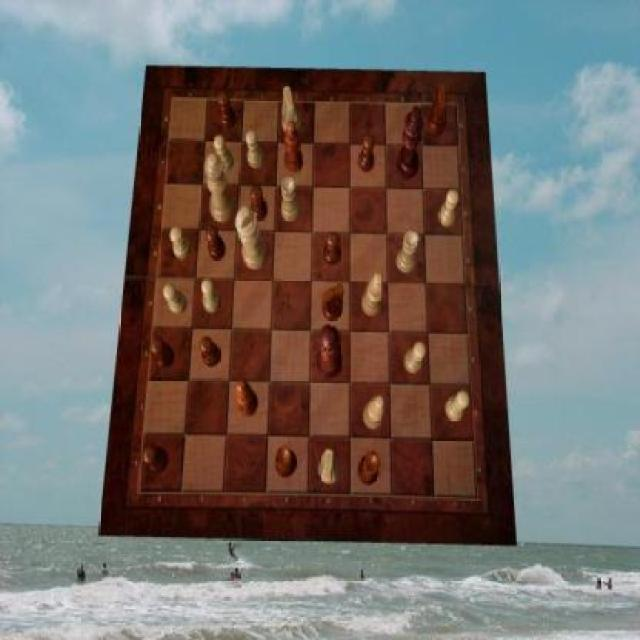bishop: (284, 119, 304, 172), (236, 379, 258, 416)
black-bishop: (397, 105, 424, 179)
black-king: (428, 85, 448, 137), (321, 283, 344, 321)
black-knight: (150, 337, 174, 369), (218, 91, 238, 129), (143, 446, 169, 474), (198, 337, 221, 368), (358, 134, 376, 172), (206, 225, 226, 259), (323, 231, 341, 265), (251, 186, 268, 221)
black-pawn: (317, 325, 341, 379)
black-queen: (358, 451, 381, 485), (275, 446, 298, 479)
black-rook: (361, 271, 384, 316), (363, 395, 386, 430)
white-bishop: (237, 206, 268, 270)
white-king: (283, 86, 303, 136), (318, 450, 341, 486)
white-knight: (446, 391, 471, 423), (438, 189, 459, 227), (163, 285, 187, 317), (214, 135, 234, 173), (170, 226, 192, 260), (405, 341, 427, 374), (247, 131, 266, 168), (202, 278, 220, 312)
white-pawn: (204, 154, 234, 223)
white-queen: (397, 231, 420, 273), (282, 177, 302, 222)
